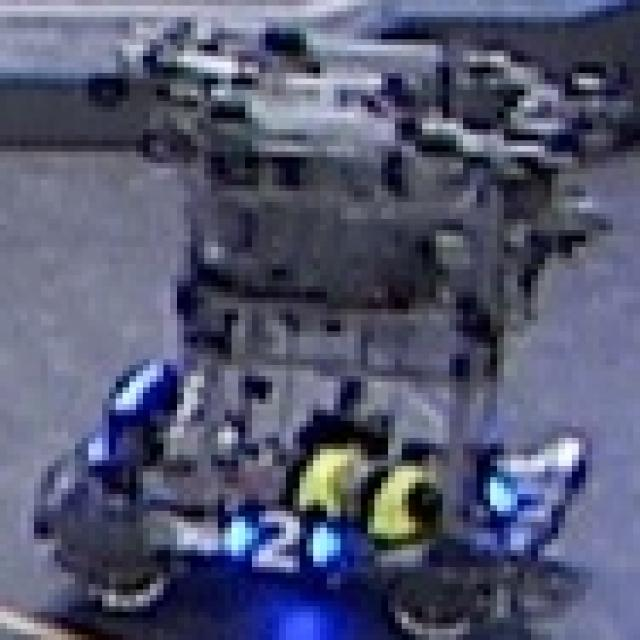B2: (218, 505, 333, 573)
